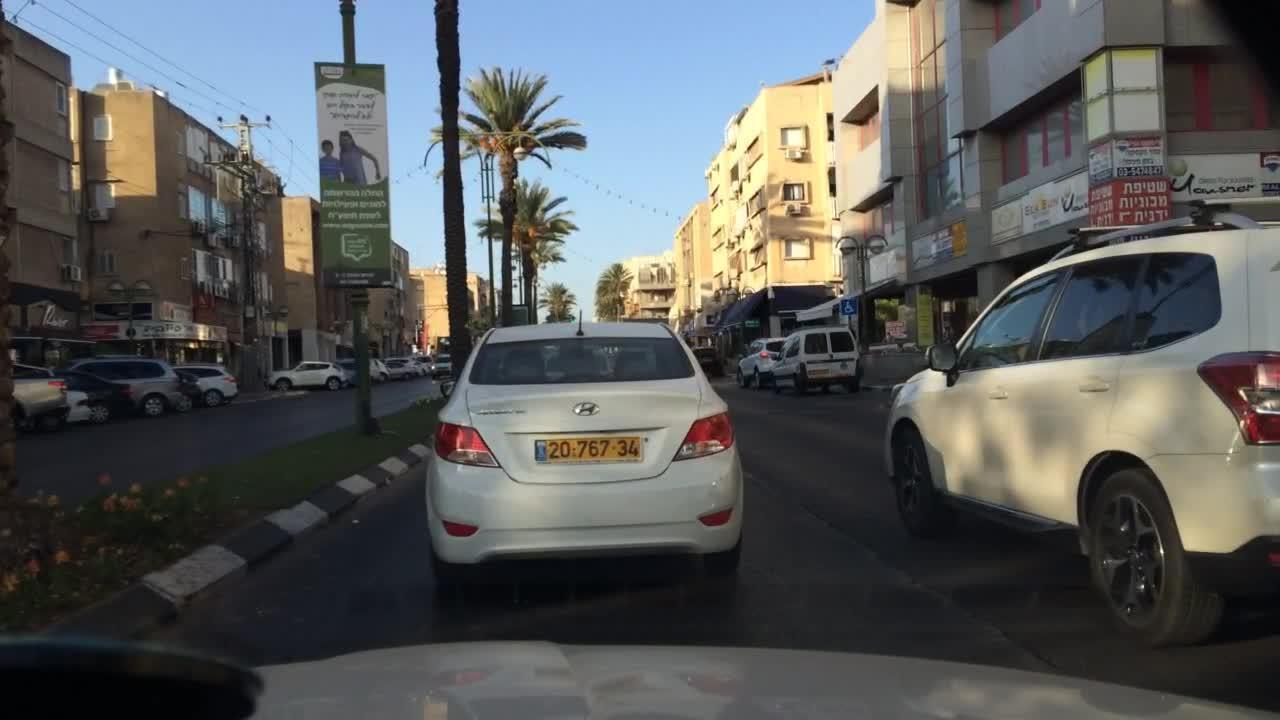Hyundai: (572, 397, 599, 419)
